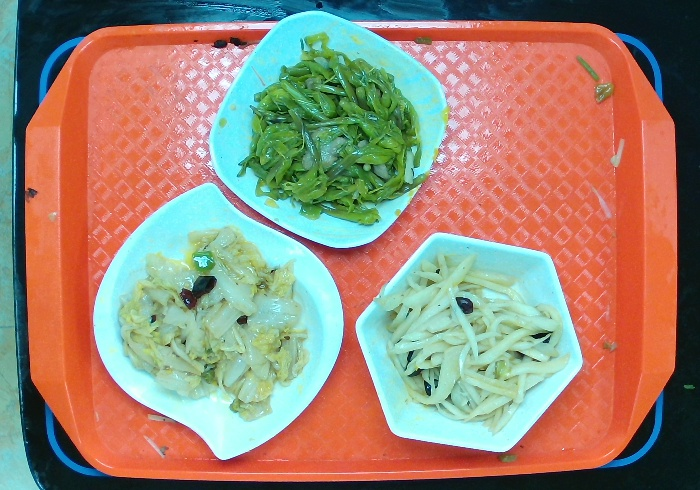RJxy-Liu_Jiao_Wan: (347, 232, 586, 449)
RJxy-Shuang_Jiao_Pan: (93, 177, 353, 481)
RJxy-Si_Fang_Wan: (207, 3, 444, 248)
